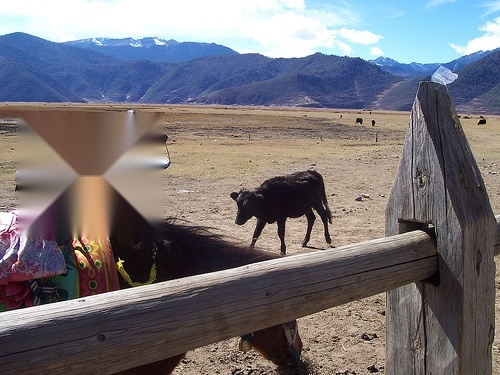cow: (237, 167, 338, 263)
horse: (1, 213, 305, 375)
